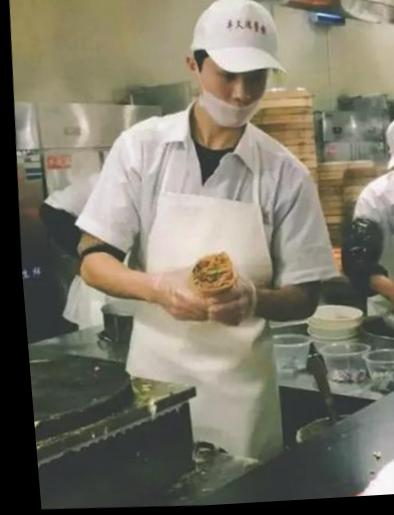WRONG: (193, 64, 265, 132)
